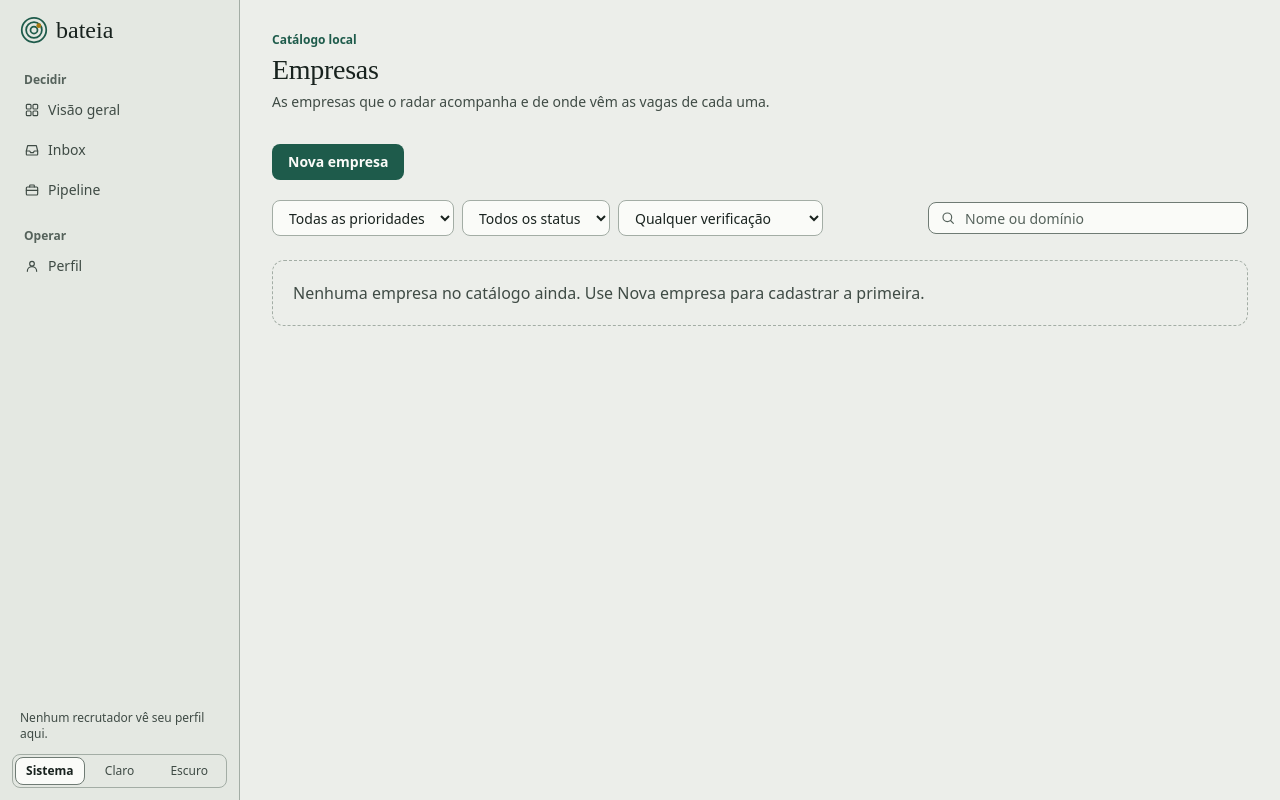
CompaniesPage › mostra o kicker do catálogo e associa rótulo e erro ao campo de nome
Expected: the text "Catálogo local" is shown, [272, 31, 357, 48]
What coordinates should you click on to do the following:
click the button "Nova empresa"
I would click on:
 (338, 162)
Its box is [272, 144, 404, 180].
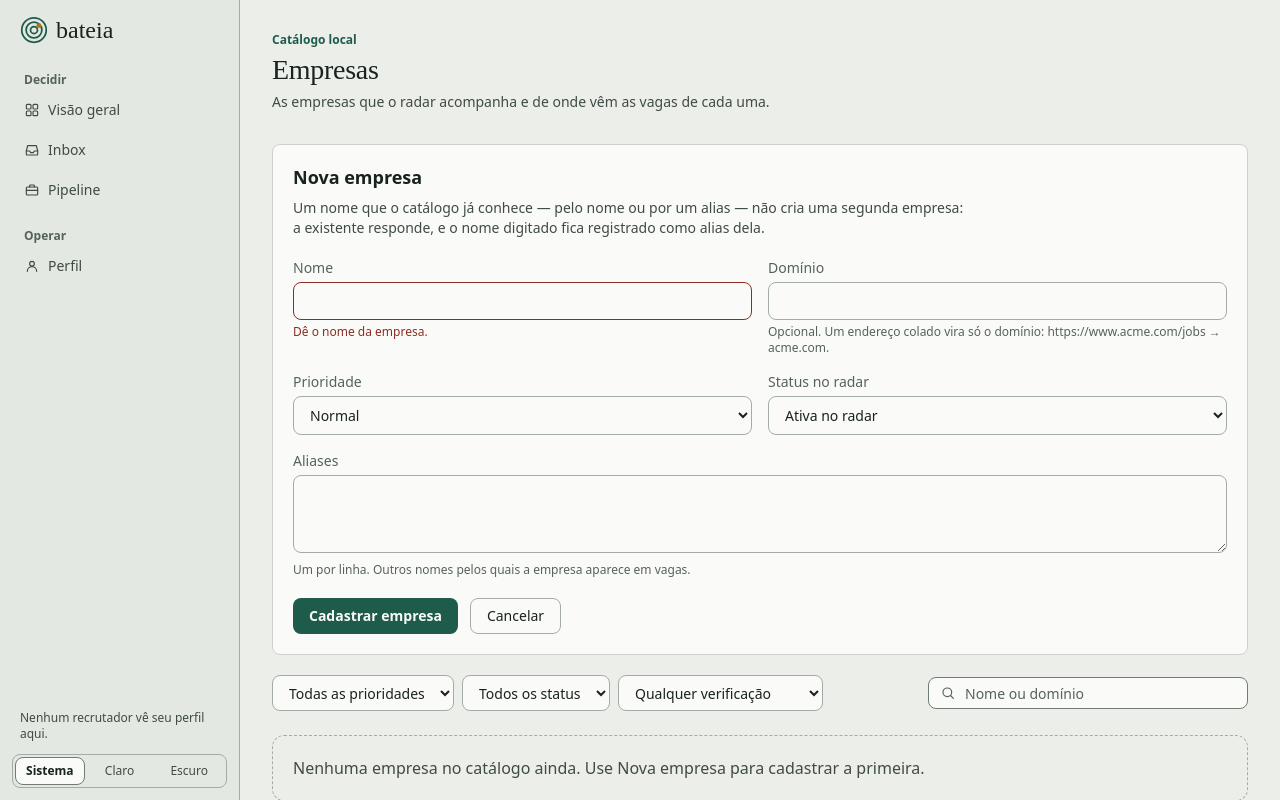
Now the form that starts with "Nova empresa" is shown, box [272, 144, 1248, 655]
Now the text "Dê o nome da empresa." is shown, box [293, 323, 428, 340]
